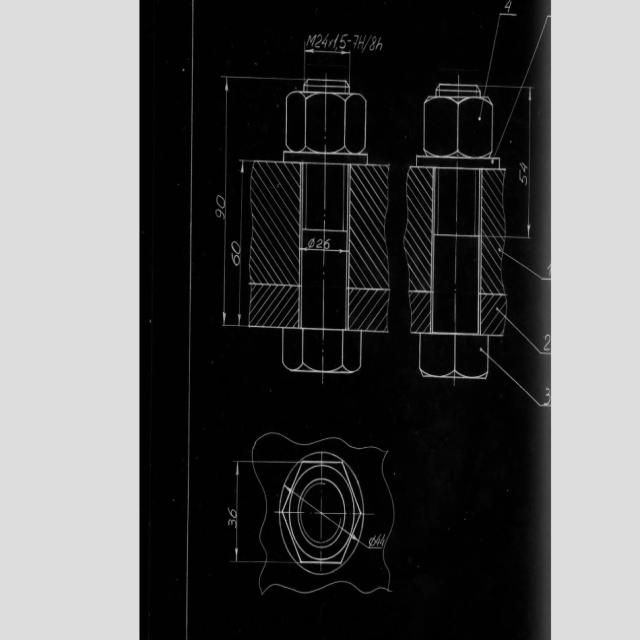marking_line: (237, 161, 248, 324), (223, 80, 230, 327), (527, 87, 532, 236), (234, 462, 240, 561)
numeric: (228, 239, 241, 266), (214, 196, 228, 220), (332, 32, 349, 51), (543, 328, 554, 353), (519, 158, 528, 187), (315, 35, 331, 51), (226, 508, 238, 529), (370, 36, 382, 56), (316, 237, 332, 249), (543, 384, 551, 405), (375, 533, 386, 547), (504, 0, 513, 14), (547, 264, 552, 280)
special_symbol: (307, 238, 317, 253), (368, 536, 376, 548)
